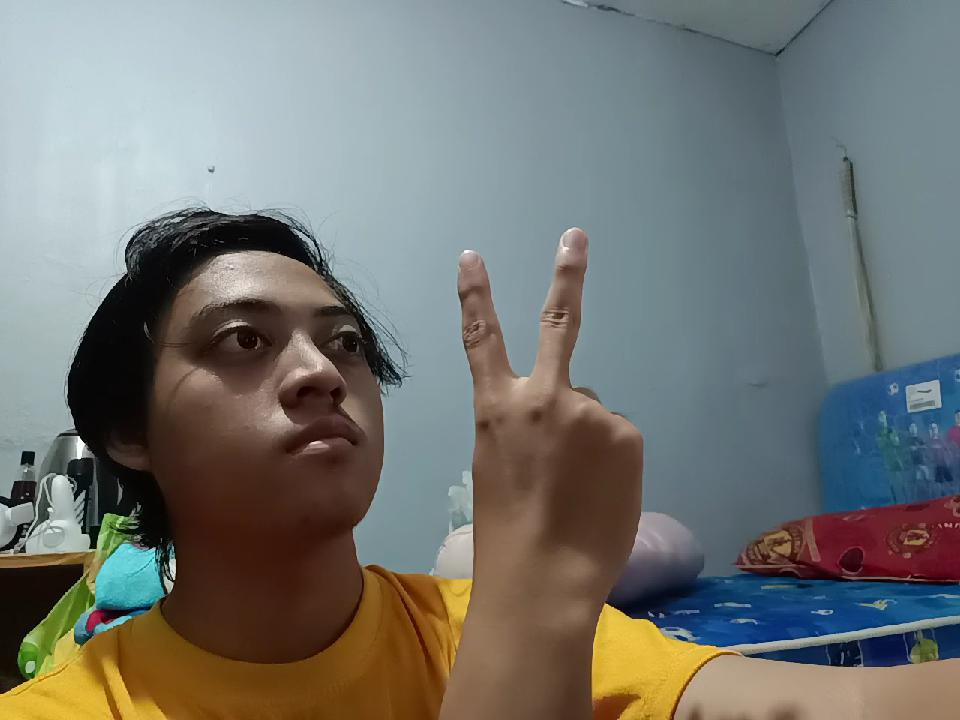scissors: (451, 224, 647, 622)
